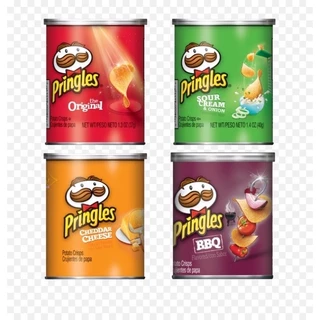non-toxic_waste: (165, 16, 276, 147), (41, 18, 153, 145), (167, 154, 276, 280), (42, 155, 149, 282)
